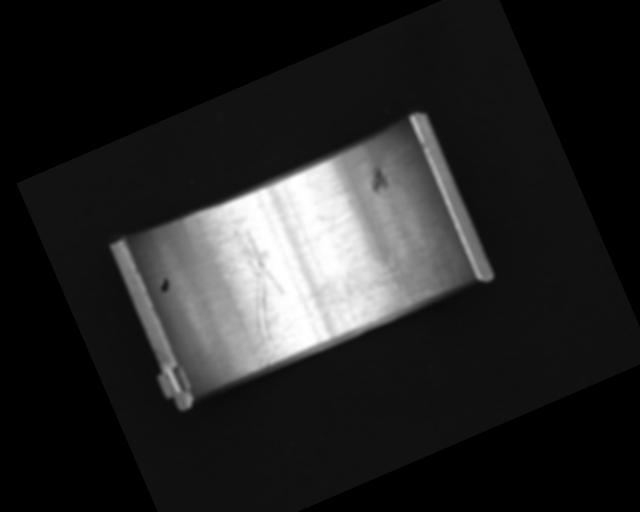blot: (155, 274, 173, 294)
bruise: (364, 165, 392, 195)
nick: (210, 220, 310, 367)
scratch: (314, 228, 437, 335)
